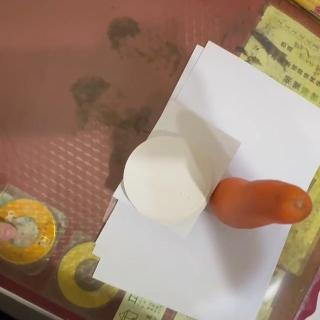carrot: (212, 174, 314, 228)
